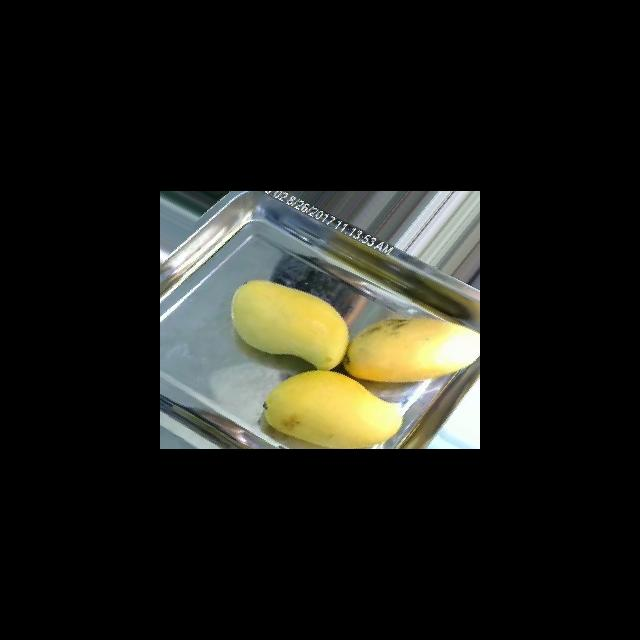mango: (262, 369, 404, 448), (230, 279, 349, 370), (342, 317, 479, 382)
